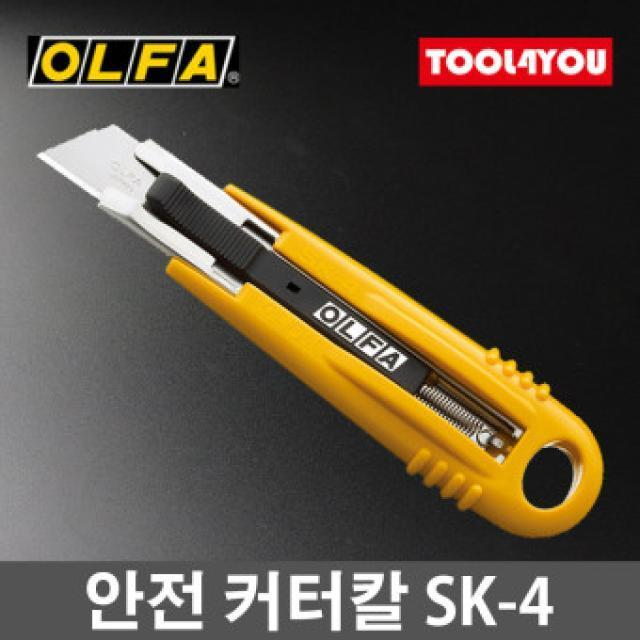cutter: (27, 102, 617, 546)
